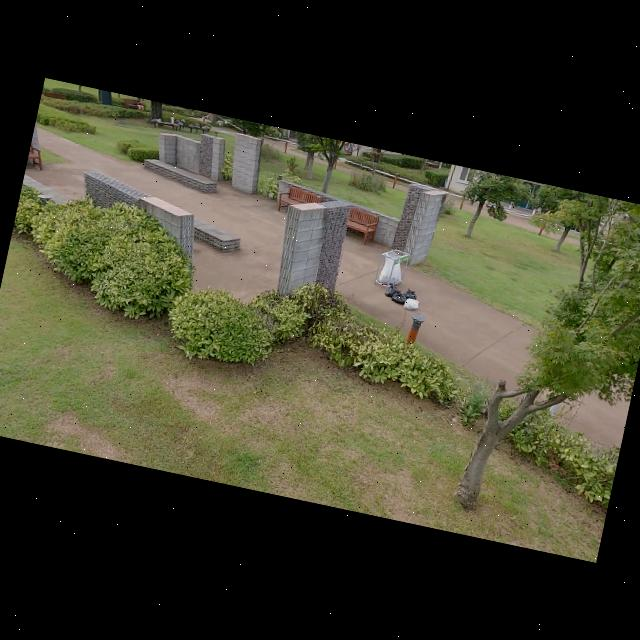trash: (400, 296, 420, 313), (390, 288, 408, 306), (383, 282, 400, 298), (402, 286, 419, 302)
